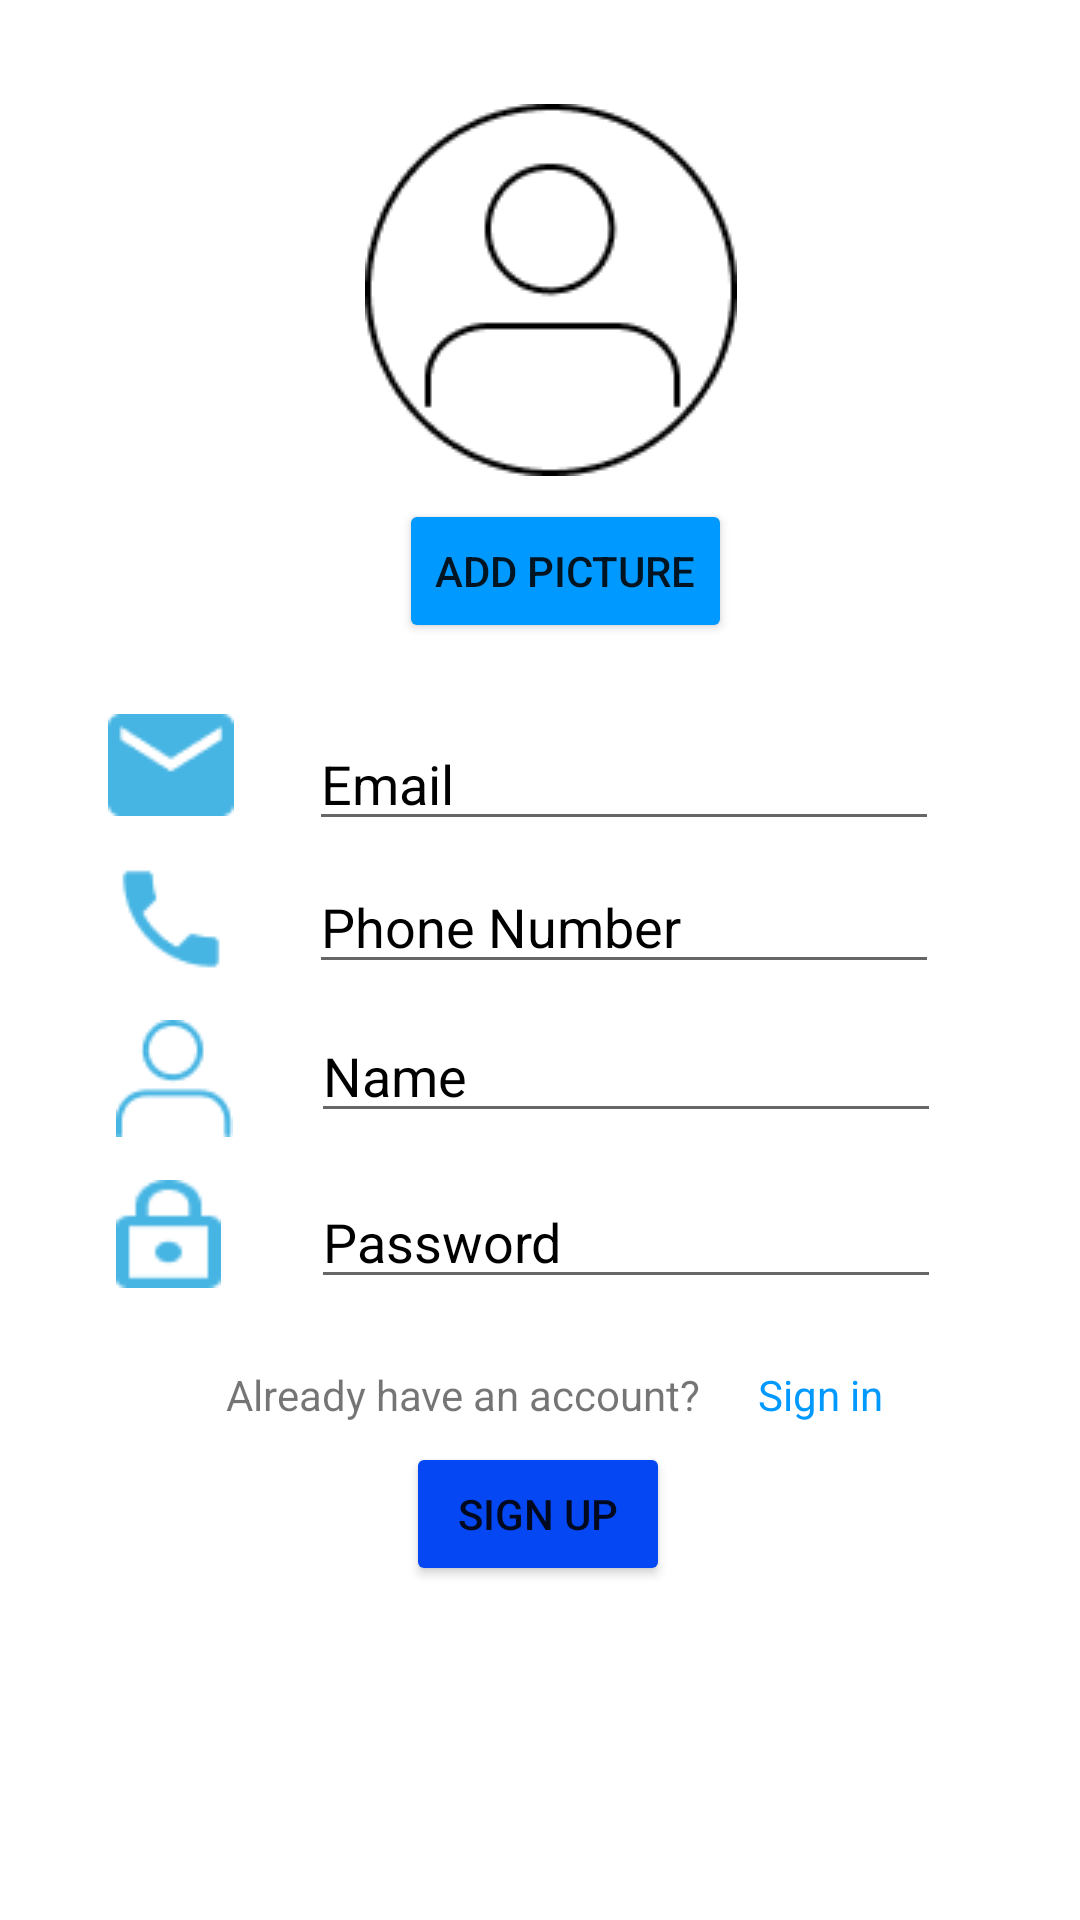

Where to tap for icons on this 1080x1920 app screen, as (x=x, y=y):
lock: (x=168, y=1234)
